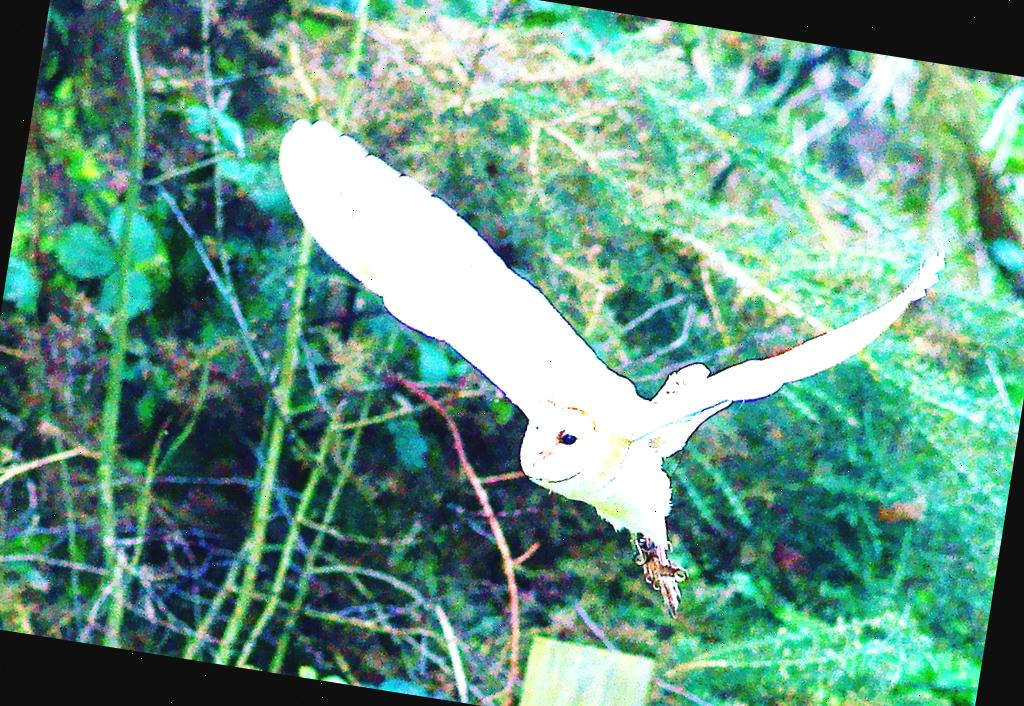Owl: (214, 114, 954, 652)
